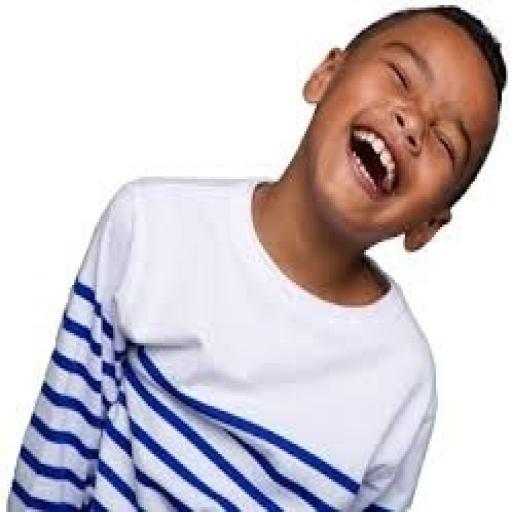laughing: (2, 0, 510, 509)
